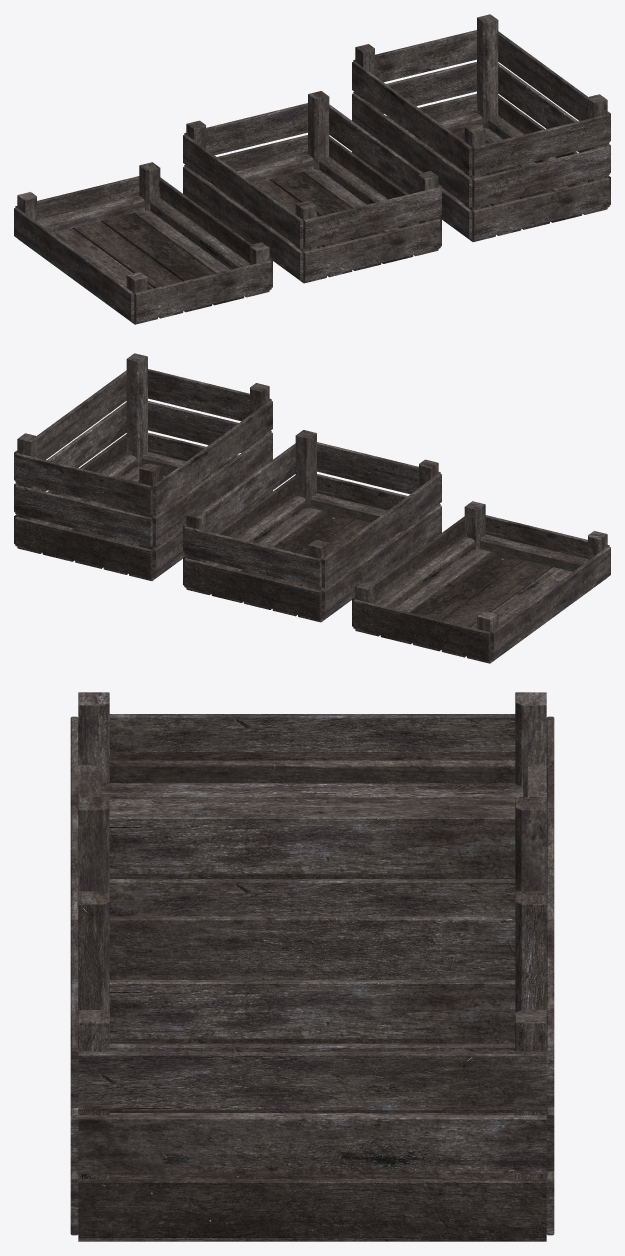
Rendered from wooden_box.dae.
The picture shows the model from 3 angles, top to bottom: view 1: azimuth 30°, elevation 25°; view 2: azimuth 150°, elevation 25°; view 3: azimuth 270°, elevation 25°; orthographic projection. The views are drawn at different scales.
Visible parts, largest first — view 1: wooden_box1, wooden_box2, wooden_box3; view 2: wooden_box1, wooden_box2, wooden_box3; view 3: wooden_box1, wooden_box3, wooden_box2.
Boxes of the visible parts, left/top/right/bottom form: wooden_box1: left=352, top=14, right=610, bottom=241; wooden_box2: left=183, top=91, right=441, bottom=283; wooden_box3: left=14, top=162, right=272, bottom=324; wooden_box1: left=14, top=353, right=272, bottom=580; wooden_box2: left=183, top=430, right=441, bottom=622; wooden_box3: left=352, top=501, right=610, bottom=663; wooden_box1: left=70, top=891, right=554, bottom=1241; wooden_box3: left=70, top=692, right=554, bottom=878; wooden_box2: left=70, top=797, right=554, bottom=1043.
Size of the model in its own units: 142 by 31 by 62.
Materials: 1 (1 with a texture image).
